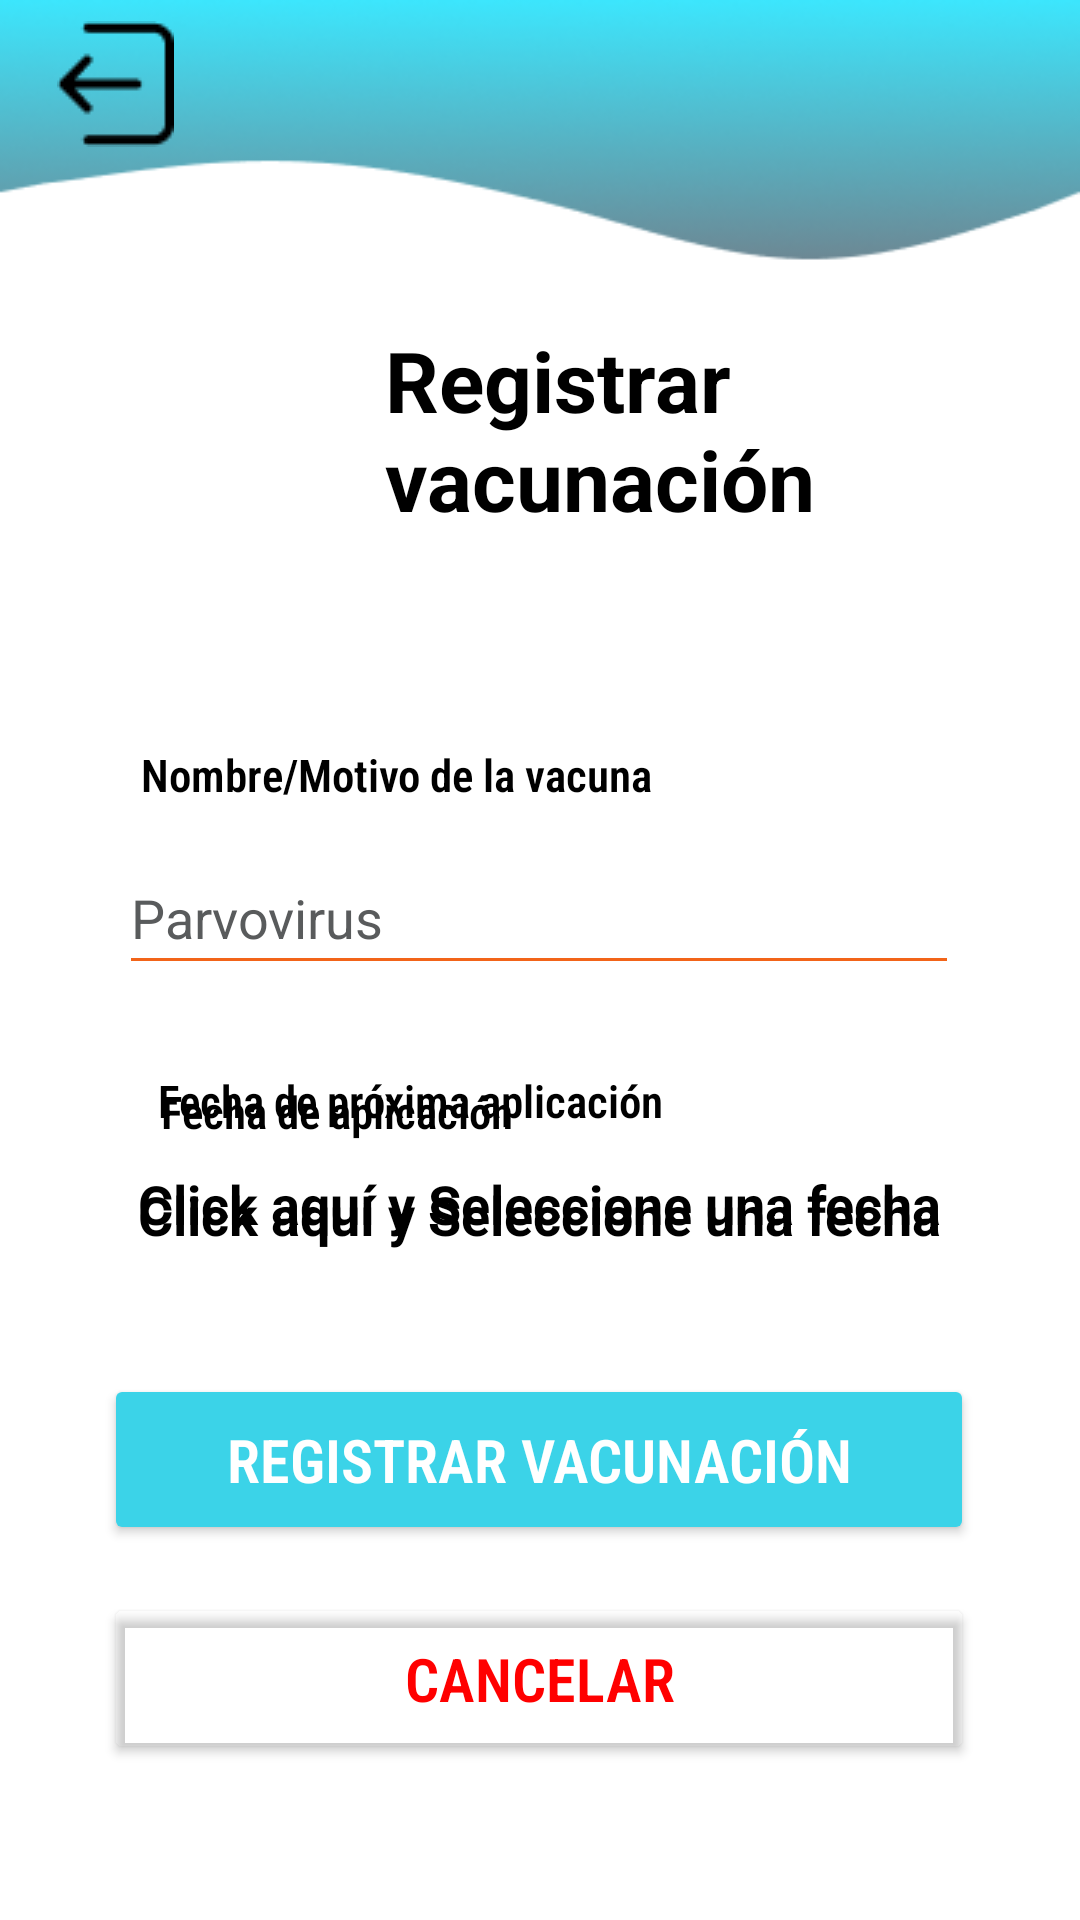

Where to tap for icons on this 1080 × 1920 app screen, as [x,y]:
btnvolver: [115,84]
